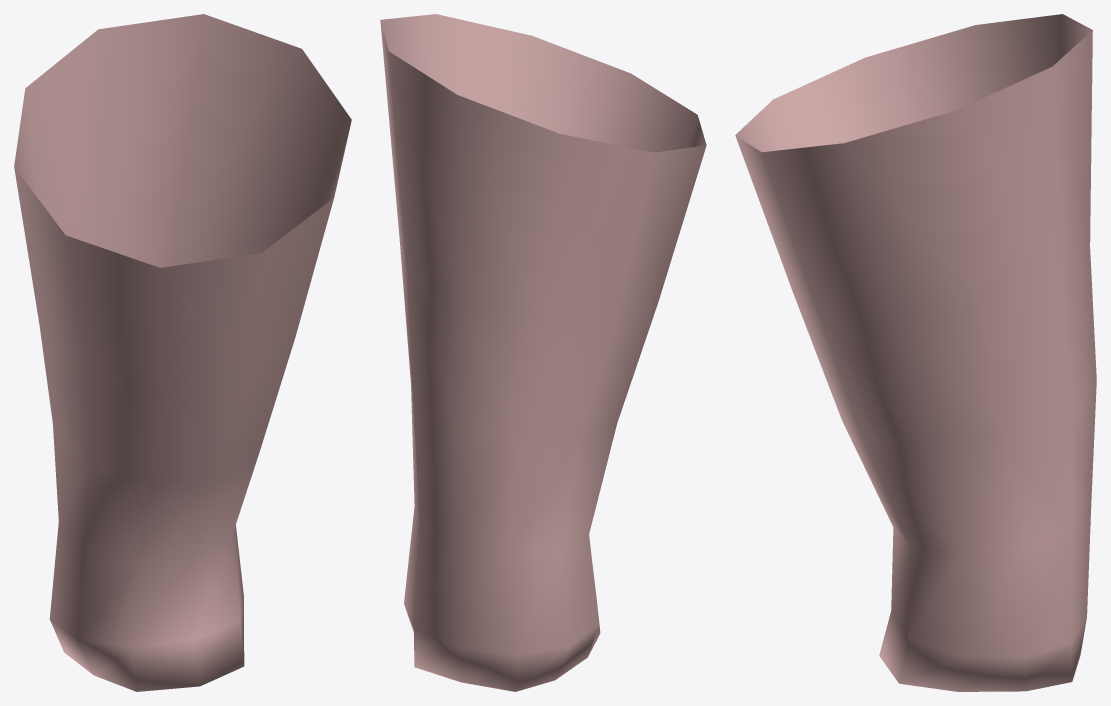
Rendered from Nendoroid_B_Foot04.fbx.
3 renders of one model, left to right at view 1: azimuth 30°, elevation 25°; view 2: azimuth 150°, elevation 25°; view 3: azimuth 270°, elevation 25°, orthographic. The views are drawn at different scales.
Parts seen in each view (by area): view 1: Nendoroid_B_Foot04; view 2: Nendoroid_B_Foot04; view 3: Nendoroid_B_Foot04.
Part boxes in pixels (left/top/right/bottom): Nendoroid_B_Foot04: left=14, top=14, right=351, bottom=691; Nendoroid_B_Foot04: left=380, top=14, right=706, bottom=691; Nendoroid_B_Foot04: left=735, top=14, right=1096, bottom=691.
Bounding box in the file's own units: 0.2372 × 0.481 × 0.2489.
